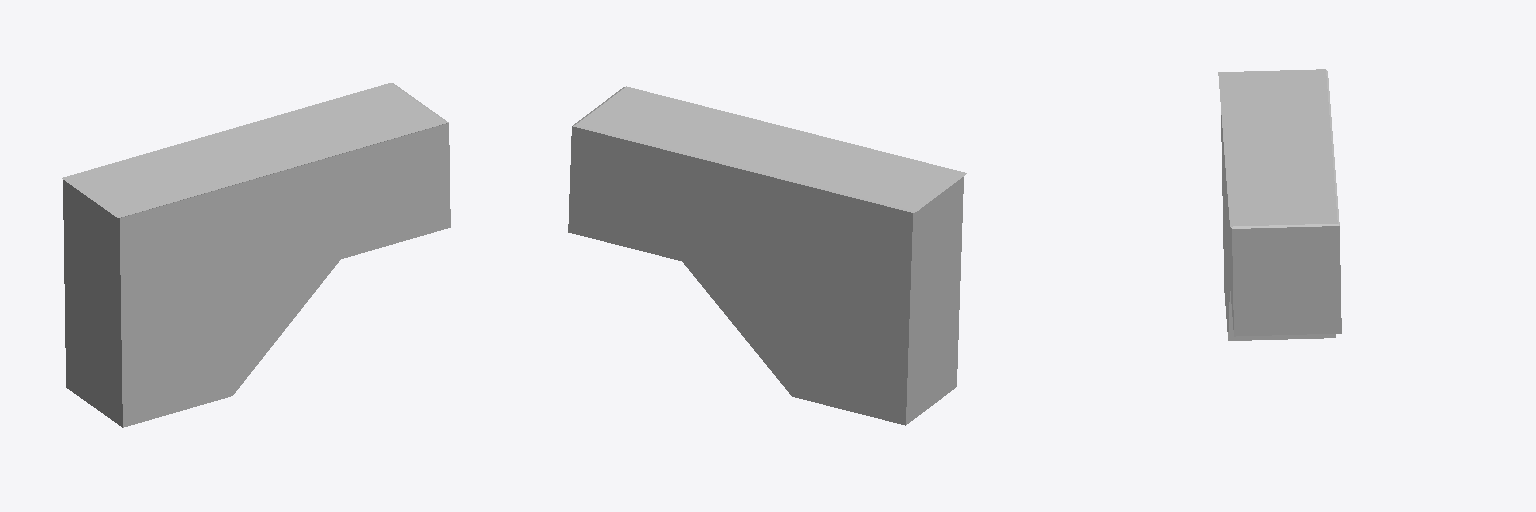
File: Gun.obj
The picture shows the model from 3 angles: view 1: azimuth 30°, elevation 25°; view 2: azimuth 150°, elevation 25°; view 3: azimuth 270°, elevation 25°; orthographic projection.
Parts seen in each view (by area): view 1: polySurface9 polySurface1; view 2: polySurface9 polySurface1; view 3: polySurface9 polySurface1.
Boxes of the visible parts, x1=… form: polySurface9 polySurface1: x1=62, y1=83, x2=450, y2=427; polySurface9 polySurface1: x1=568, y1=86, x2=966, y2=425; polySurface9 polySurface1: x1=1218, y1=69, x2=1341, y2=340.
Bounding box in the file's own units: 3.32 × 2.07 × 1.03.